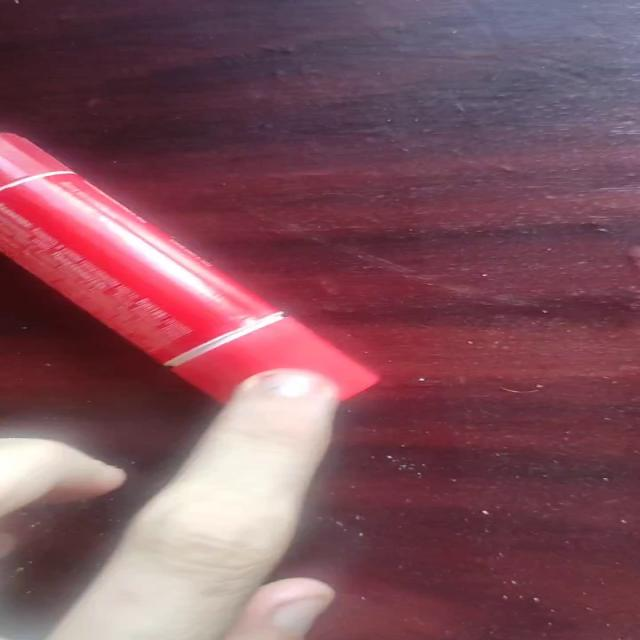glue: (1, 130, 381, 408)
